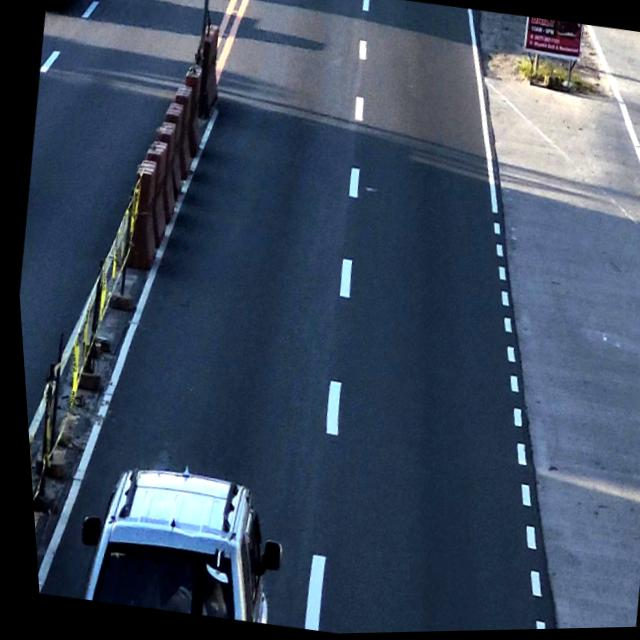Car: (69, 453, 280, 628)
